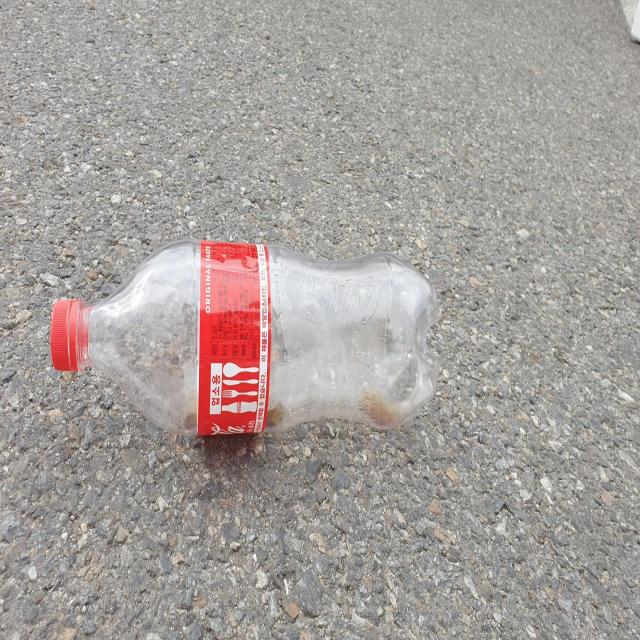plastic: (50, 239, 438, 436)
